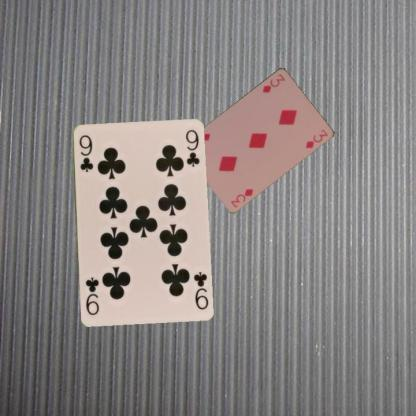3d: (260, 70, 286, 93), (228, 186, 254, 208)
9c: (191, 269, 209, 311), (76, 132, 94, 172)
